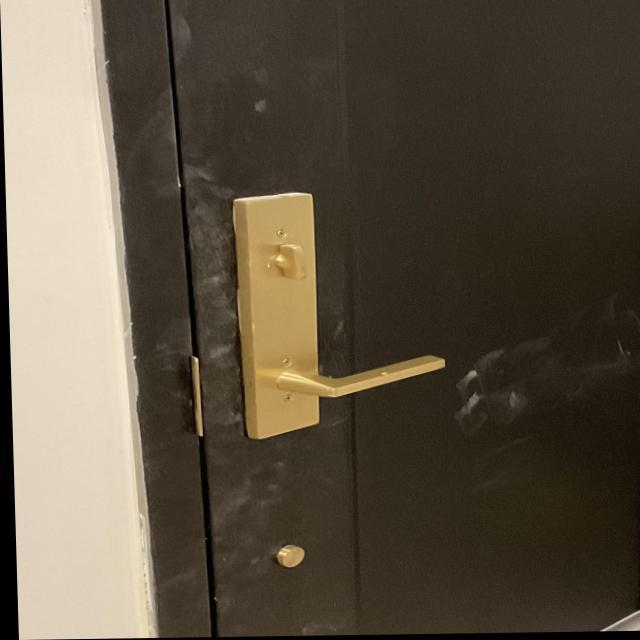door_handle: (234, 337, 465, 415)
